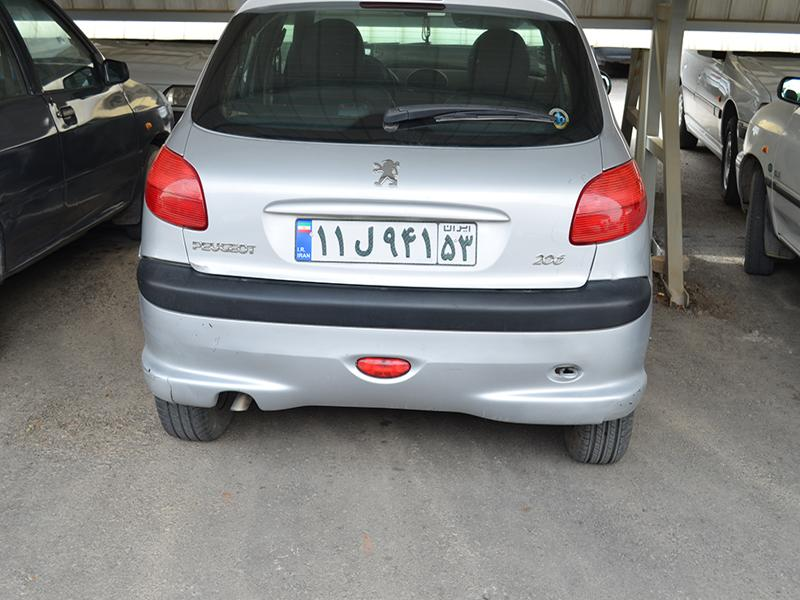Plate: (281, 210, 490, 271)
